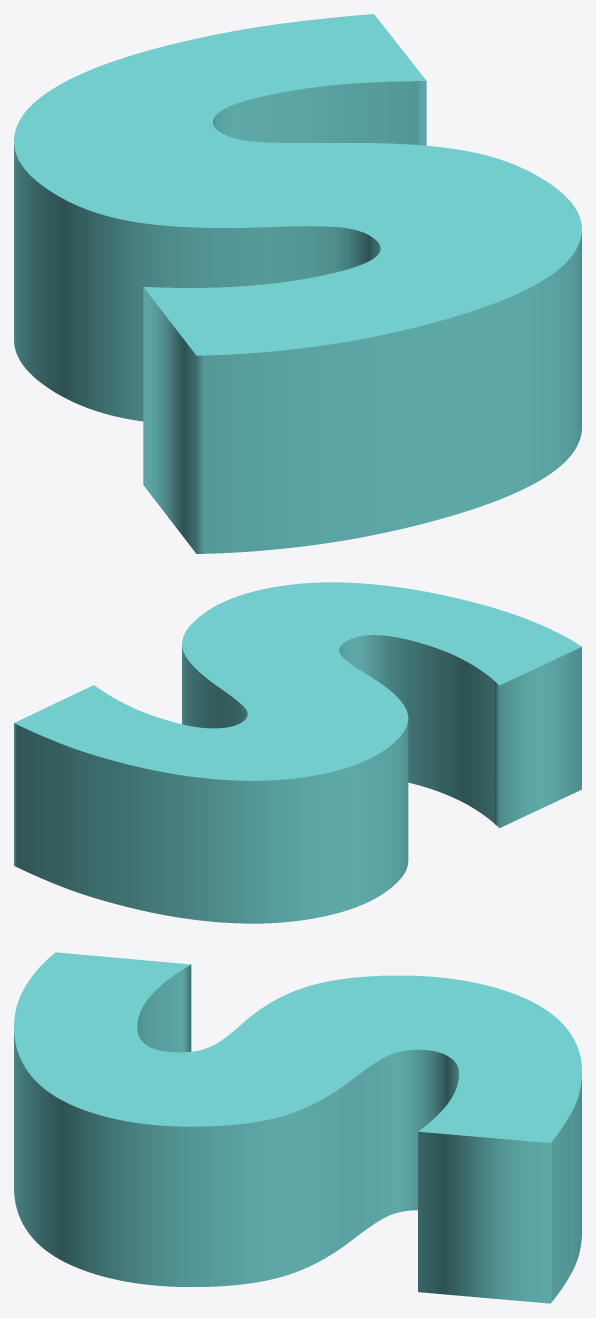
The picture shows the model from 3 angles, top to bottom: view 1: azimuth 30°, elevation 25°; view 2: azimuth 150°, elevation 25°; view 3: azimuth 270°, elevation 25°; orthographic projection. The views are drawn at different scales.
Visible parts, largest first — view 1: S; view 2: S; view 3: S.
Part boxes in pixels (<box>): S: <box>14,14,581,553</box>; S: <box>14,582,581,923</box>; S: <box>14,952,581,1303</box>.
Bounding box in the file's own units: 40.81 × 16 × 51.33.
